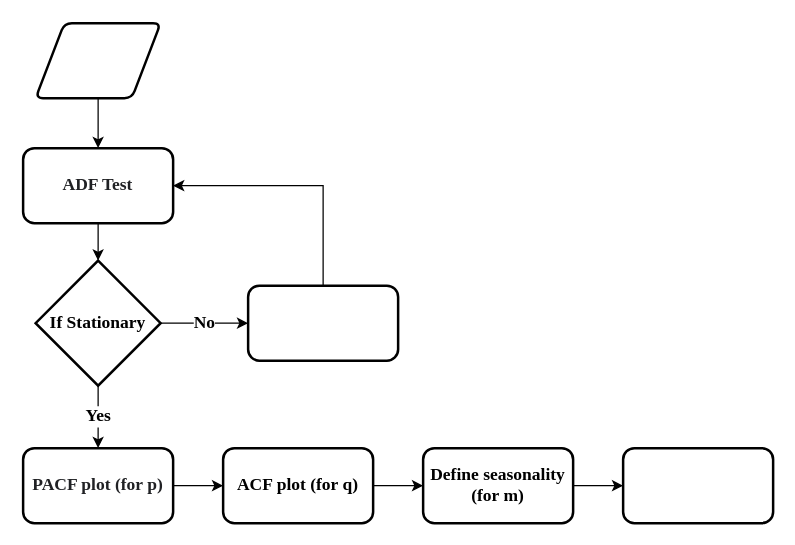
This 795x545 diagram has some shape labels left out. Each missing label, with the box of its shape:
Build Model: (621, 446, 774, 524)
Dataset: (34, 21, 161, 99)
Differencing (for d): (246, 284, 399, 361)
